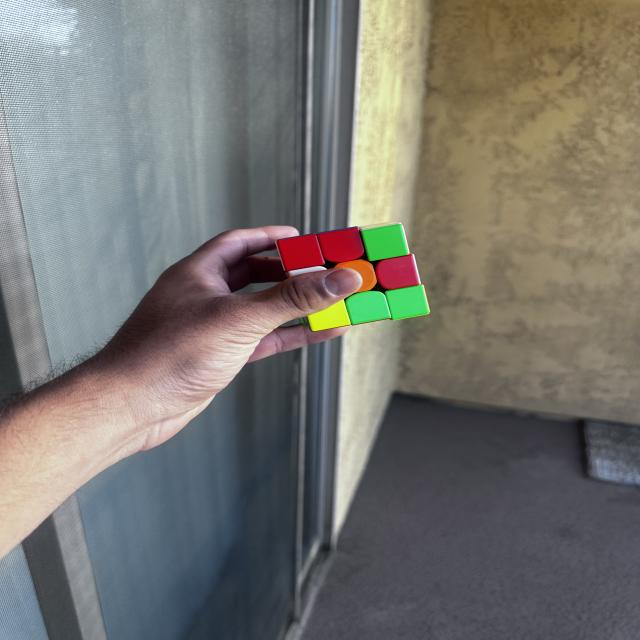sticker: (358, 222, 411, 264), (274, 232, 326, 274), (315, 226, 367, 265), (374, 252, 422, 291), (383, 284, 429, 321), (306, 296, 352, 332), (344, 290, 390, 326), (335, 259, 377, 293)
